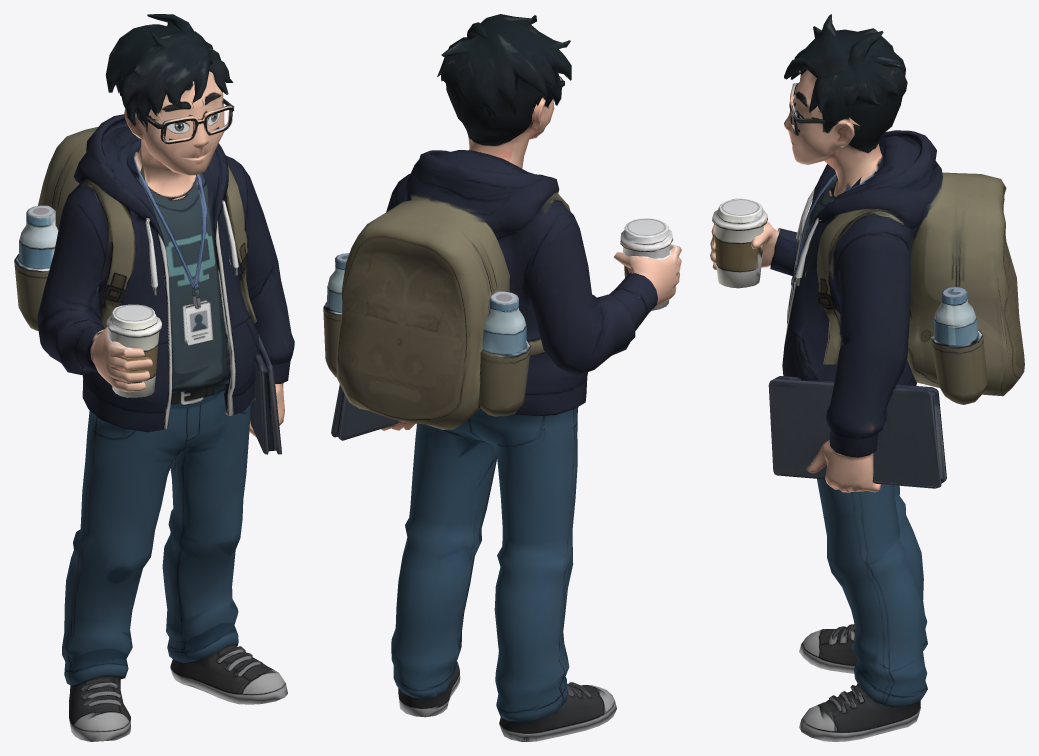
The model's file is Informático glb.glb.
The picture shows the model from 3 angles, left to right: view 1: azimuth 30°, elevation 25°; view 2: azimuth 150°, elevation 25°; view 3: azimuth 270°, elevation 25°; orthographic projection. The views are drawn at different scales.
Bounding box in the file's own units: 0.3613 × 0.9512 × 0.4062.
Materials: 1 (1 with a texture image).
